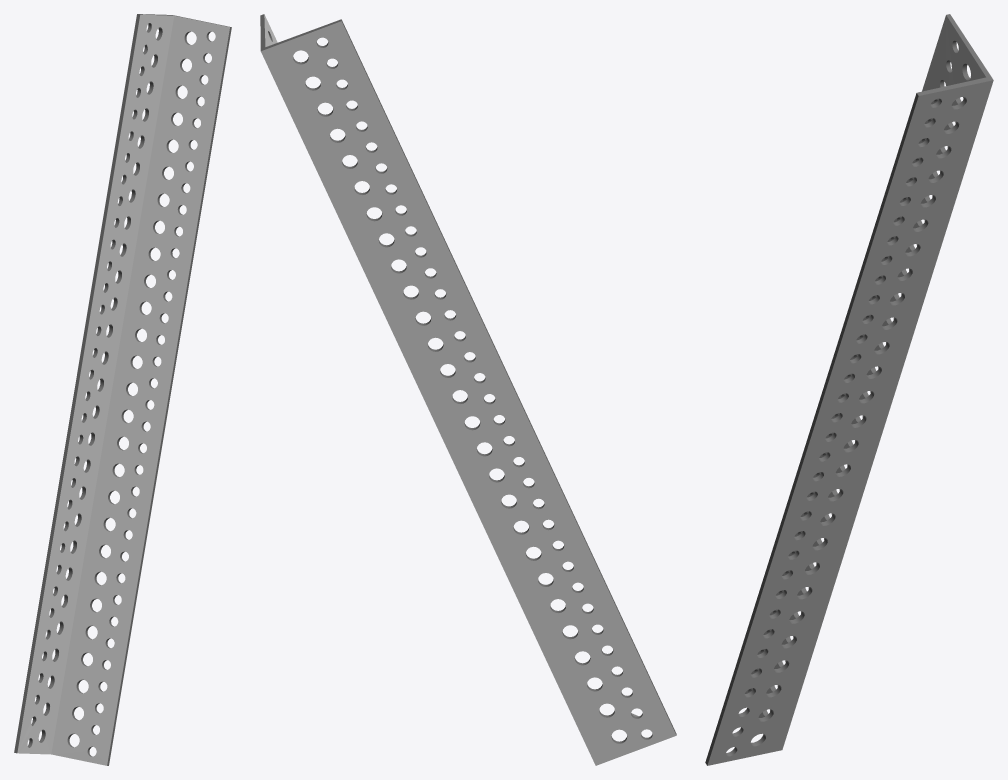
File: fileprofil.glb
3 renders of one model, left to right at view 1: azimuth 30°, elevation 25°; view 2: azimuth 150°, elevation 25°; view 3: azimuth 270°, elevation 25°, orthographic. The views are drawn at different scales.
Visible parts, largest first — view 1: filelikose.004; view 2: filelikose.004; view 3: filelikose.004.
Boxes of the visible parts, x1,y1,x2,y2 form: filelikose.004: (14,14,231,765); filelikose.004: (260,14,676,765); filelikose.004: (705,14,993,765).
Bounding box in the file's own units: 0.5571 × 1.21 × 0.3794.
Materials: 2 (1 with a texture image).
